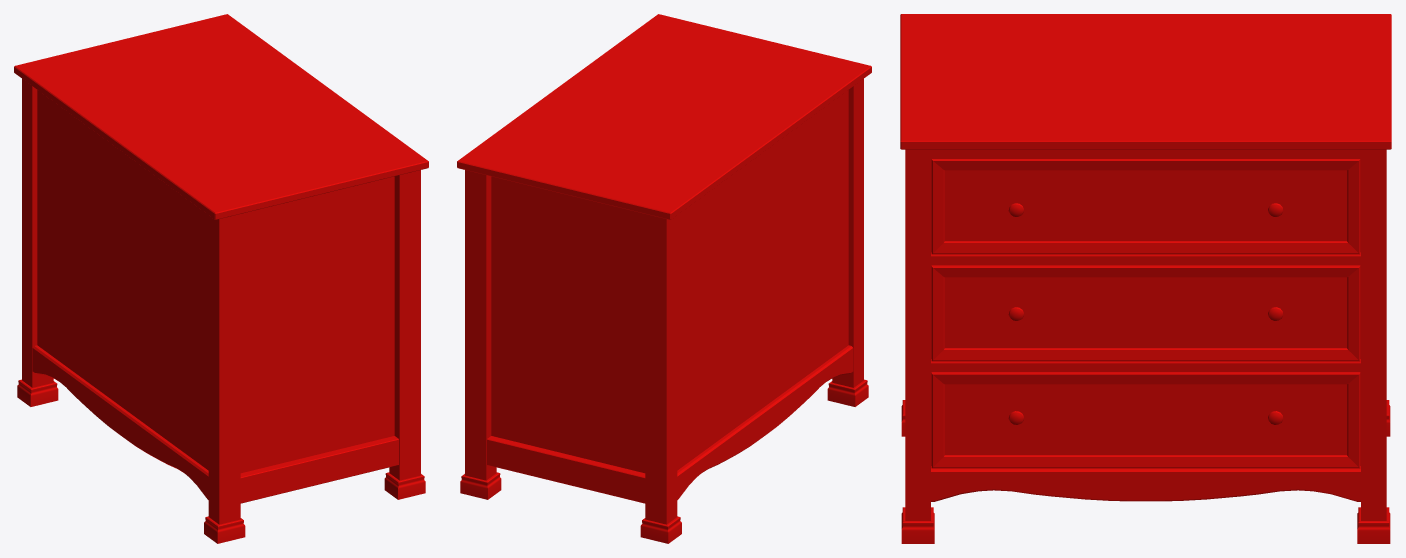
File: Dresser.fbx
The picture shows the model from 3 angles, left to right: view 1: azimuth 30°, elevation 25°; view 2: azimuth 150°, elevation 25°; view 3: azimuth 270°, elevation 25°; orthographic projection. The views are drawn at different scales.
Visible parts, largest first — view 1: Dresser; view 2: Dresser; view 3: Dresser.
Part boxes in pixels (<box>): Dresser: <box>14,14,428,543</box>; Dresser: <box>457,14,871,543</box>; Dresser: <box>900,14,1391,543</box>.
Size of the model in its own units: 445 by 658 by 725.
